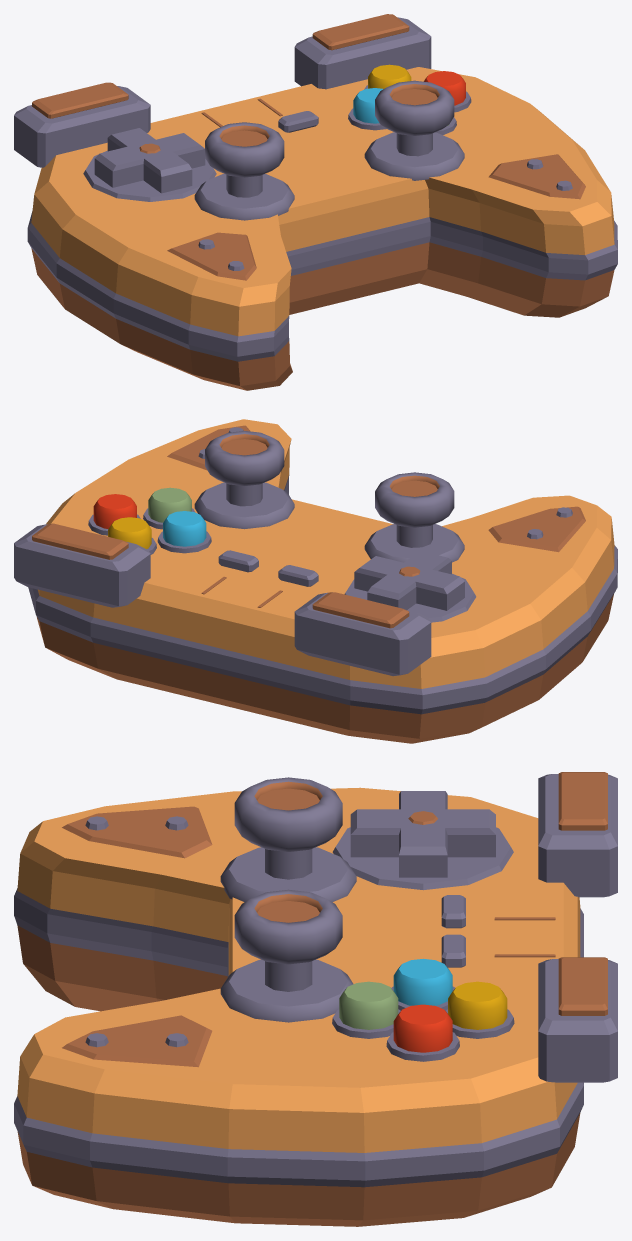
File: gamepad.glb
The picture shows the model from 3 angles, top to bottom: view 1: azimuth 30°, elevation 25°; view 2: azimuth 150°, elevation 25°; view 3: azimuth 270°, elevation 25°; orthographic projection. The views are drawn at different scales.
Parts seen in each view (by area): view 1: gamepad; view 2: gamepad; view 3: gamepad.
Boxes of the visible parts, box(x1,y1,x2,y2) form: gamepad: box(14, 14, 617, 390); gamepad: box(14, 419, 617, 743); gamepad: box(14, 772, 617, 1226).
Bounding box in the file's own units: 1.62 × 0.54 × 1.28.
1 material, 1 textured.
